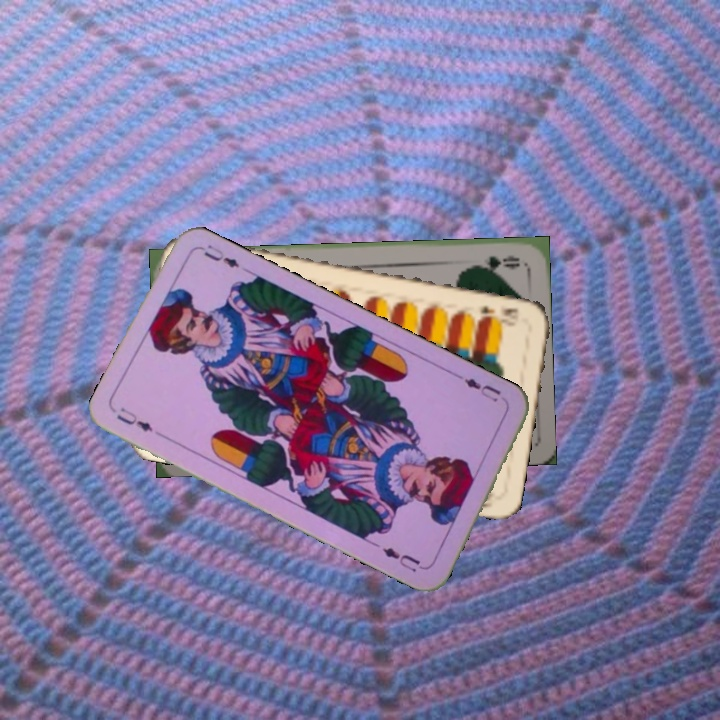E10: (476, 302, 522, 326)
EU: (454, 371, 504, 405), (112, 403, 156, 435)
GO: (465, 251, 523, 272)
